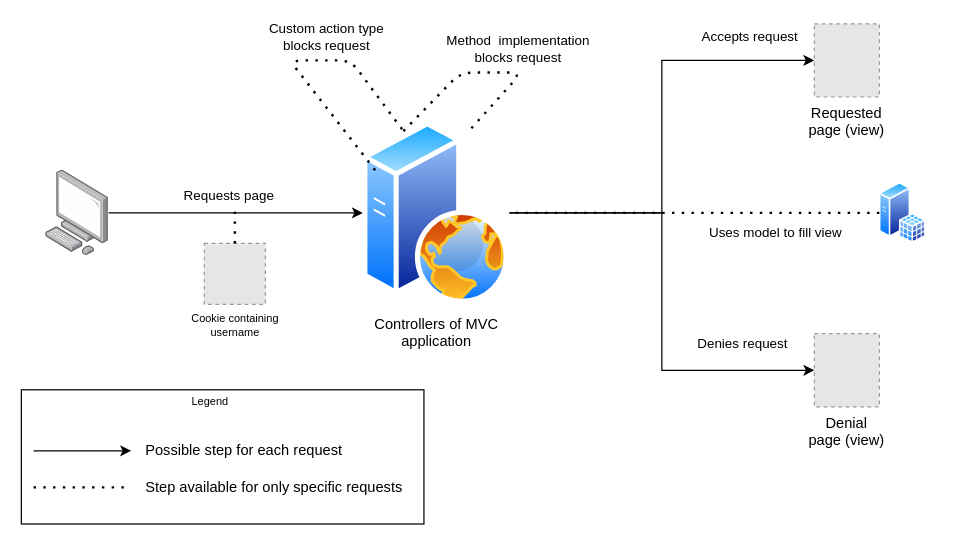
Some shapes in this 975 by 545 pixel diagram are drawn without their labels. Grey dashed boxes stand in for pictures. The centre of each missing label's shape, as x and y in pixels:
"End user" belongs at (x=76, y=212).
"Models of MVC application" belongs at (x=902, y=212).
